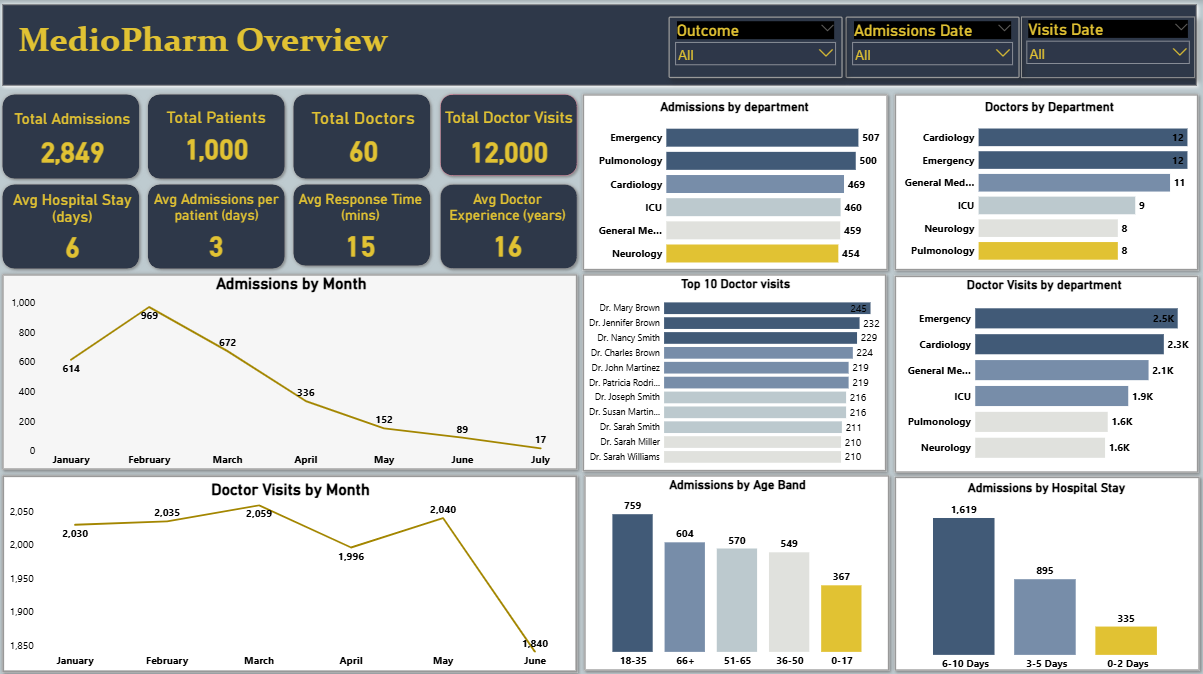

What the dashboard file says about the page in this screenshot:
{"tool":"powerbi","page":{"name":"Overview","canvas":[2560,1440],"ordinal":0},"visuals":[{"type":"shape","box":[617.2,190.9,308.6,197.2],"z":0},{"type":"shape","box":[0,0,2551.3,190.9],"z":1000},{"type":"shape","box":[928.9,381.7,308.6,197.2],"z":2000},{"type":"shape","box":[928.9,190.9,308.6,190.9],"z":3000},{"type":"shape","box":[1231.1,572.6,661.7,435.8],"z":4000},{"type":"shape","box":[0,998.9,1237.5,435.8],"z":5000},{"type":"textbox","box":[38.2,35,852.6,130.4],"z":6000},{"type":"shape","box":[0,572.6,1237.5,432.6],"z":7000},{"type":"shape","box":[1892.8,575.8,661.7,435.8],"z":8000},{"type":"shape","box":[1234.3,998.9,664.9,432.6],"z":9000},{"type":"shape","box":[1892.8,1002.1,664.9,429.5],"z":10000},{"type":"shape","box":[1231.1,190.9,664.9,391.3],"z":11000},{"type":"shape","box":[1892.8,190.9,661.7,391.3],"z":12000},{"type":"card","title":"Total Doctors","fields":{"Values":["Measures_.Total Doctors"]},"box":[636.2,229,276.8,127.2],"z":13000},{"type":"shape","box":[0,190.9,308.6,197.2],"z":14000},{"type":"shape","box":[308.6,190.9,308.6,197.2],"z":15000},{"type":"shape","box":[0,381.7,308.6,197.2],"z":16000},{"type":"shape","box":[308.6,381.7,308.6,197.2],"z":17000},{"type":"shape","box":[617.2,381.7,308.6,190.9],"z":18000},{"type":"card","title":"Total Admissions","fields":{"Values":["Measures_.Total admissions"]},"box":[19.1,232.2,276.8,127.2],"z":19000},{"type":"card","title":"Total Patients","fields":{"Values":["Measures_.Total Patients"]},"box":[324.5,229,276.8,120.9],"z":20000},{"type":"card","title":"Total Doctor Visits","fields":{"Values":["Measures_.Total Doctor Visits"]},"box":[941.6,229,283.1,133.6],"z":21000},{"type":"card","title":"Avg Hospital Stay (days)","fields":{"Values":["Measures_.Avg Hospital Stay"]},"box":[19.1,404,276.8,152.7],"z":22000},{"type":"card","title":"Avg Response Time (mins)","fields":{"Values":["Measures_.Avg Response Time"]},"box":[629.9,404,276.8,152.7],"z":23000},{"type":"card","title":"Avg Doctor Experience (years)","fields":{"Values":["Measures_.Avg Doctor Years of Experience"]},"box":[941.6,404,276.8,152.7],"z":24000},{"type":"slicer","fields":{"Values":["admissions.Month Date"]},"box":[1797.4,35,369,130.4],"z":25000},{"type":"slicer","fields":{"Values":["doctor_visits.Month Date"]},"box":[2169.6,35,369,130.4],"z":26000},{"type":"card","title":"Avg Admissions per patient (days)","fields":{"Values":["Measures_.Avg Admissions per patient"]},"box":[324.5,404,276.8,152.7],"z":27000},{"type":"lineChart","title":"Admissions by Month","fields":{"Y":["Measures_.Total Admissions"],"Category":["admissions.Month Date.Variation.Date Hierarchy.Month"]},"box":[22.3,582.2,1199.3,416.7],"z":28000},{"type":"slicer","fields":{"Values":["admissions.outcome"]},"box":[1422,35,369,130.4],"z":29000},{"type":"lineChart","title":"Doctor Visits by Month","fields":{"Category":["doctor_visits.Month Date.Variation.Date Hierarchy.Month"],"Y":["Measures_.Total Doctor Visits"]},"box":[19.1,1018,1202.5,407.2],"z":30000},{"type":"clusteredBarChart","title":"Admissions by department","fields":{"Category":["admissions.department"],"Y":["Measures_.Total Admissions"]},"box":[1247,210,629.9,372.2],"z":31000},{"type":"clusteredBarChart","title":"Top 10 Doctor visits","fields":{"Y":["Measures_.Total Doctor Visits"],"Category":["doctors.doctor_name"]},"box":[1233.8,584.6,660.6,413.8],"z":32000},{"type":"clusteredBarChart","title":"Doctor Visits by department","fields":{"Category":["doctors.department"],"Y":["Measures_.Total Doctor Visits"]},"box":[1899.2,588.5,639.4,410.4],"z":33000},{"type":"clusteredColumnChart","title":"Admissions by Age Band","fields":{"Category":["patients.Age Band"],"Y":["Measures_.Total Admissions"]},"box":[1253.4,1011.6,629.9,413.6],"z":34000},{"type":"clusteredColumnChart","title":"Admissions by Hospital Stay ","fields":{"Category":["admissions.Stay Band"],"Y":["Measures_.Total Admissions"]},"box":[1908.7,1018,629.9,413.6],"z":35000},{"type":"clusteredBarChart","title":"Doctors by Department","fields":{"Category":["doctors.department"],"Y":["Measures_.Total Doctors"]},"box":[1902.4,210,655.3,365.8],"z":36000}]}

Visuals, with their boxes in screenshot pixels (x1, y1, x2, y2), scaled from the page's 2560x1440 canvas onto the 1203x674 screenshot:
shape: x1=290 y1=89 x2=435 y2=182
shape: x1=0 y1=0 x2=1199 y2=89
shape: x1=437 y1=179 x2=582 y2=271
shape: x1=437 y1=89 x2=582 y2=179
shape: x1=579 y1=268 x2=889 y2=472
shape: x1=0 y1=468 x2=582 y2=672
textbox: x1=18 y1=16 x2=419 y2=77
shape: x1=0 y1=268 x2=582 y2=470
shape: x1=889 y1=270 x2=1200 y2=473
shape: x1=580 y1=468 x2=892 y2=670
shape: x1=889 y1=469 x2=1202 y2=670
shape: x1=579 y1=89 x2=891 y2=273
shape: x1=889 y1=89 x2=1200 y2=273
"Total Doctors" card: x1=299 y1=107 x2=429 y2=167
shape: x1=0 y1=89 x2=145 y2=182
shape: x1=145 y1=89 x2=290 y2=182
shape: x1=0 y1=179 x2=145 y2=271
shape: x1=145 y1=179 x2=290 y2=271
shape: x1=290 y1=179 x2=435 y2=268
"Total Admissions" card: x1=9 y1=109 x2=139 y2=168
"Total Patients" card: x1=152 y1=107 x2=283 y2=164
"Total Doctor Visits" card: x1=442 y1=107 x2=576 y2=170
"Avg Hospital Stay (days)" card: x1=9 y1=189 x2=139 y2=261
"Avg Response Time (mins)" card: x1=296 y1=189 x2=426 y2=261
"Avg Doctor Experience (years)" card: x1=442 y1=189 x2=573 y2=261
slicer - admissions.Month Date: x1=845 y1=16 x2=1018 y2=77
slicer - doctor_visits.Month Date: x1=1020 y1=16 x2=1193 y2=77
"Avg Admissions per patient (days)" card: x1=152 y1=189 x2=283 y2=261
"Admissions by Month" lineChart: x1=10 y1=273 x2=574 y2=468
slicer - admissions.outcome: x1=668 y1=16 x2=842 y2=77
"Doctor Visits by Month" lineChart: x1=9 y1=476 x2=574 y2=667
"Admissions by department" clusteredBarChart: x1=586 y1=98 x2=882 y2=273
"Top 10 Doctor visits" clusteredBarChart: x1=580 y1=274 x2=890 y2=467
"Doctor Visits by department" clusteredBarChart: x1=892 y1=275 x2=1193 y2=468
"Admissions by Age Band" clusteredColumnChart: x1=589 y1=473 x2=885 y2=667
"Admissions by Hospital Stay " clusteredColumnChart: x1=897 y1=476 x2=1193 y2=670
"Doctors by Department" clusteredBarChart: x1=894 y1=98 x2=1202 y2=270
